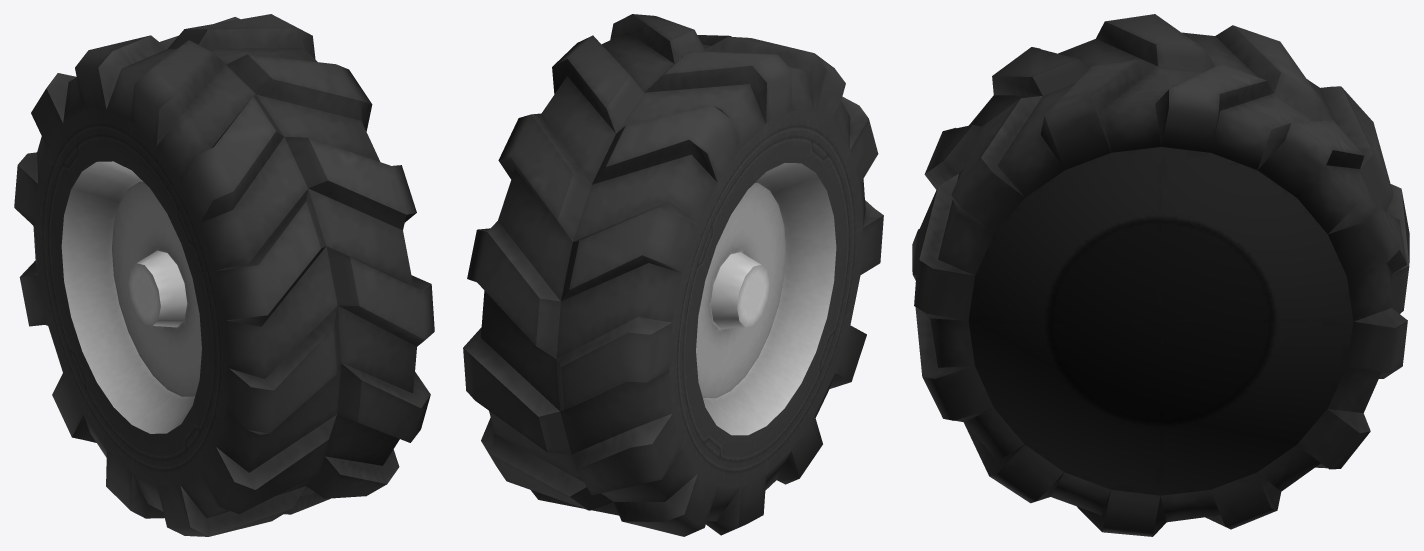
File: Wheel8.fbx
The picture shows the model from 3 angles, left to right: view 1: azimuth 30°, elevation 25°; view 2: azimuth 150°, elevation 25°; view 3: azimuth 270°, elevation 25°; orthographic projection.
Parts seen in each view (by area): view 1: Tire, Metal; view 2: Tire, Metal; view 3: Metal, Tire.
Boxes of the visible parts, left/top/right/bottom form: Tire: left=14, top=14, right=434, bottom=536; Metal: left=61, top=161, right=201, bottom=433; Tire: left=463, top=14, right=883, bottom=536; Metal: left=696, top=163, right=836, bottom=435; Metal: left=968, top=147, right=1353, bottom=495; Tire: left=912, top=14, right=1409, bottom=536.
Size of the model in its own units: 68.6 by 160 by 160.
